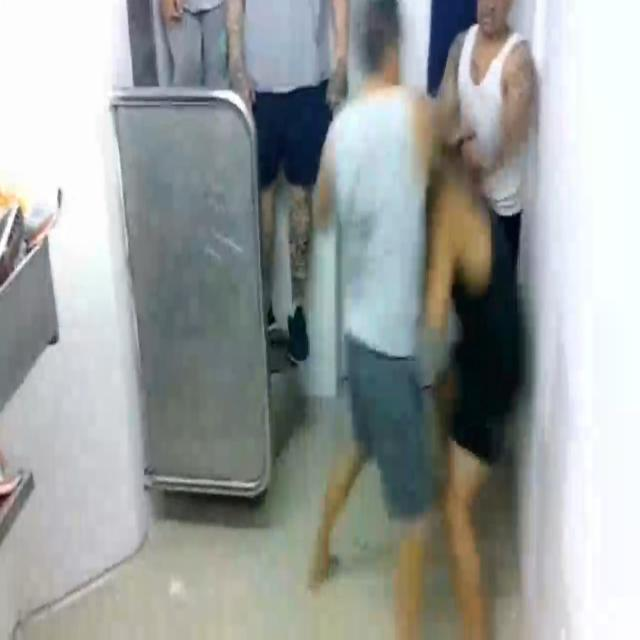fight: (314, 0, 531, 467)
